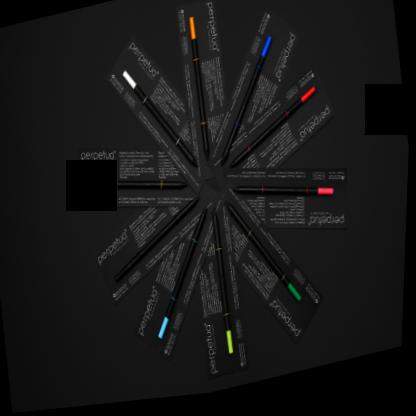pencil: (226, 205, 307, 311), (122, 72, 201, 173), (115, 199, 202, 287), (228, 91, 318, 174), (221, 40, 274, 173), (158, 209, 209, 346), (213, 208, 239, 363), (188, 20, 212, 168), (233, 189, 336, 204), (89, 181, 192, 195)
